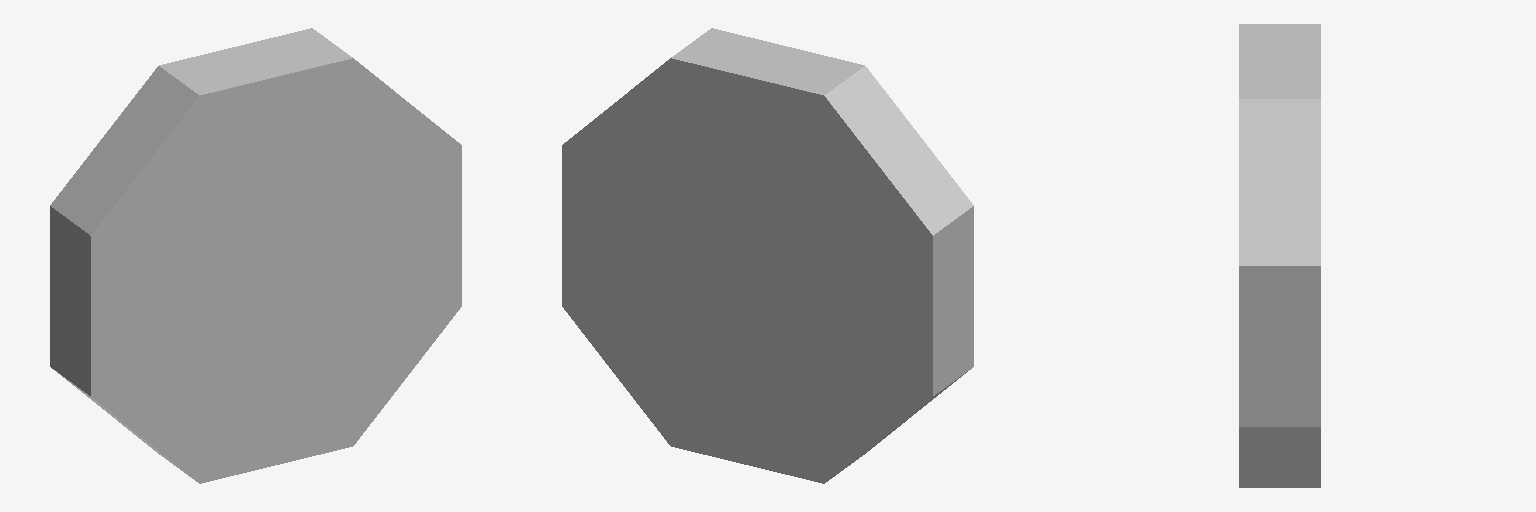
File: icub_simple_collision_l_shoulder_pitch_link.obj
3 views of the same model, side by side, from view 1: azimuth 30°, elevation 25°; view 2: azimuth 150°, elevation 25°; view 3: azimuth 270°, elevation 25° (orthographic).
Parts seen in each view (by area): view 1: l_shoulder_1_mesh_Cylinder.002; view 2: l_shoulder_1_mesh_Cylinder.002; view 3: l_shoulder_1_mesh_Cylinder.002.
Part boxes in pixels (bbox=[...]): l_shoulder_1_mesh_Cylinder.002: bbox=[50, 28, 461, 483]; l_shoulder_1_mesh_Cylinder.002: bbox=[562, 28, 973, 483]; l_shoulder_1_mesh_Cylinder.002: bbox=[1239, 24, 1320, 487].
Bounding box in the file's own units: 0.0573 × 0.0573 × 0.011.